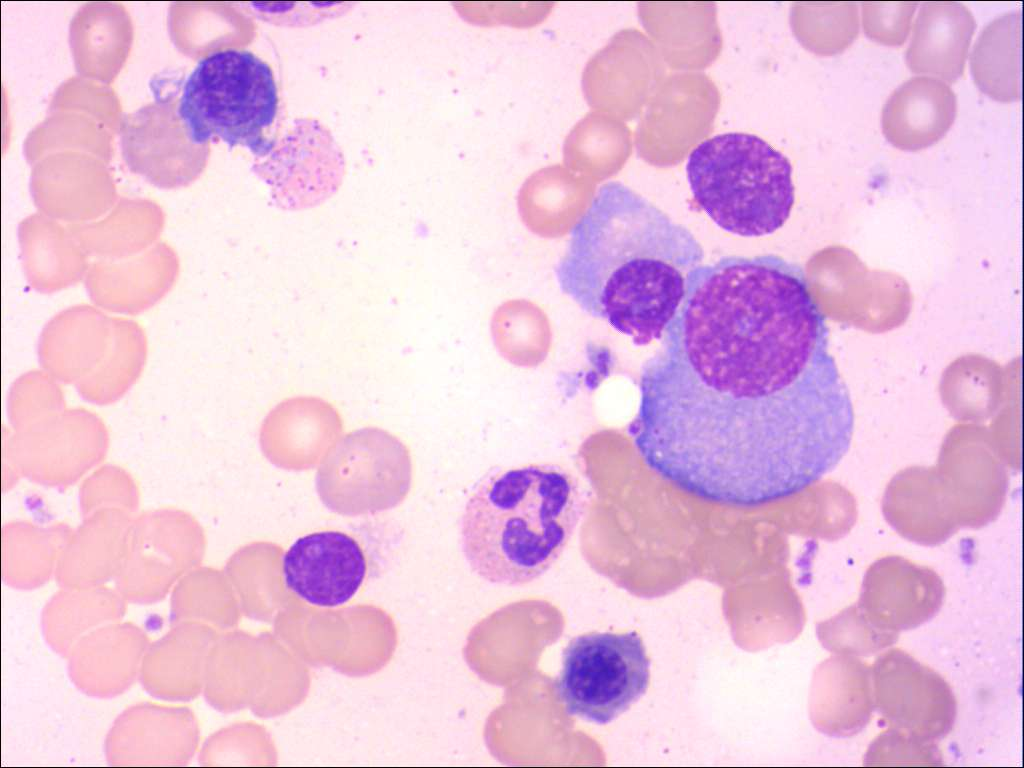23: (175, 45, 283, 161)
24: (554, 626, 655, 726)
51: (623, 250, 859, 511), (547, 175, 709, 353)
6: (456, 457, 592, 592)
x: (683, 129, 798, 241), (276, 524, 372, 610)
